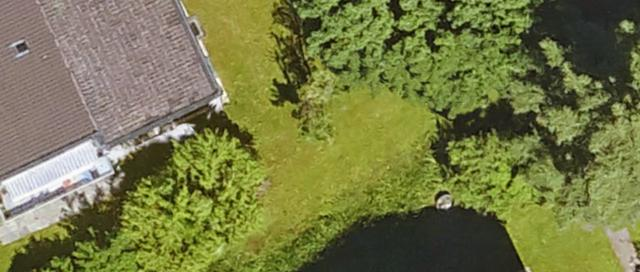tree: (449, 19, 640, 206), (57, 137, 262, 272), (302, 0, 543, 91)
